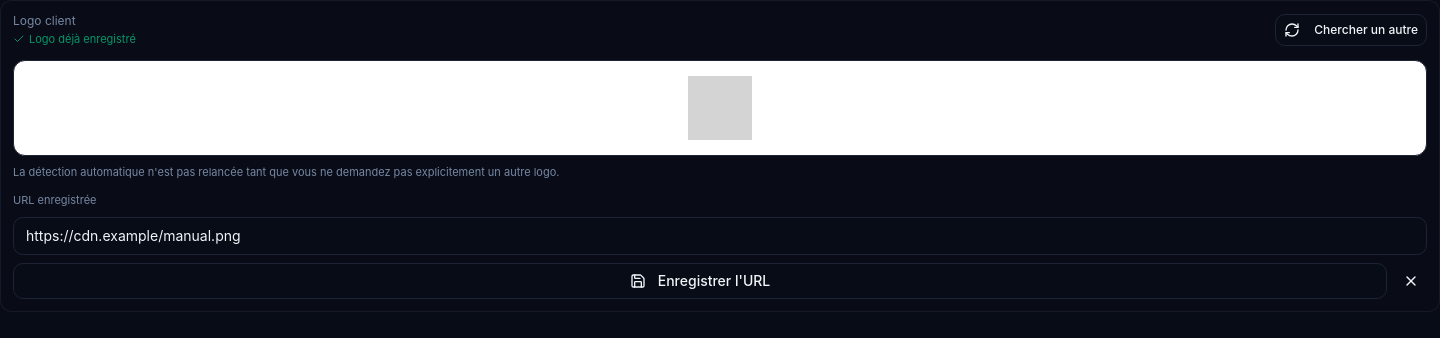
ClientLogoSidebar › shows a detected logo as a suggestion without overwriting the saved field
The image size is (1440, 338).
Expected: the text "Logo déjà enregistré" is shown, [13,31,136,48]
Click the button "Chercher un autre" at (1351, 30), box [1275,14,1427,46]
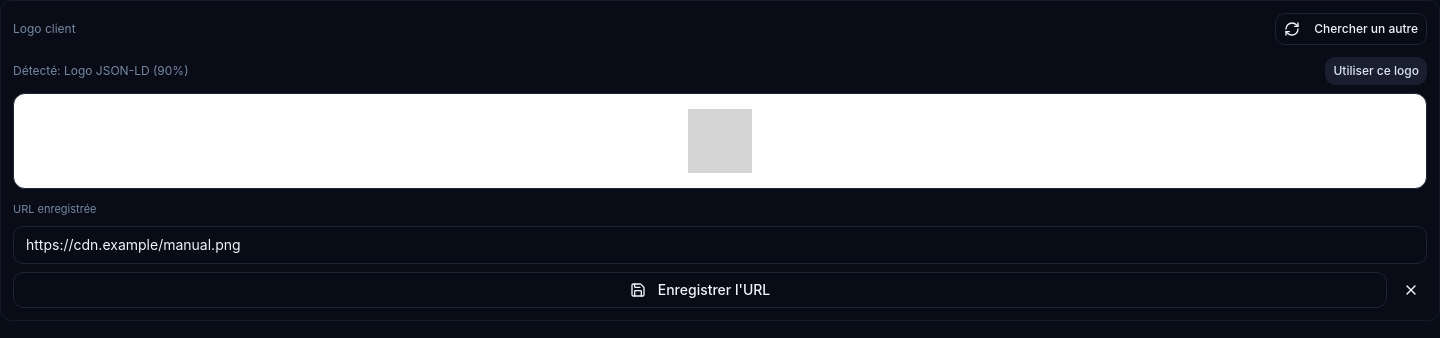
Expected: the field with placeholder "https://exemple.com/logo.png" holds "https://cdn.example/manual.png", [13,226,1427,264]
Expected: the text "Détecté: Logo JSON-LD (90%)" is shown, [13,63,188,79]
Click the button "Utiliser ce logo" at (1376, 71), box [1326,57,1427,85]
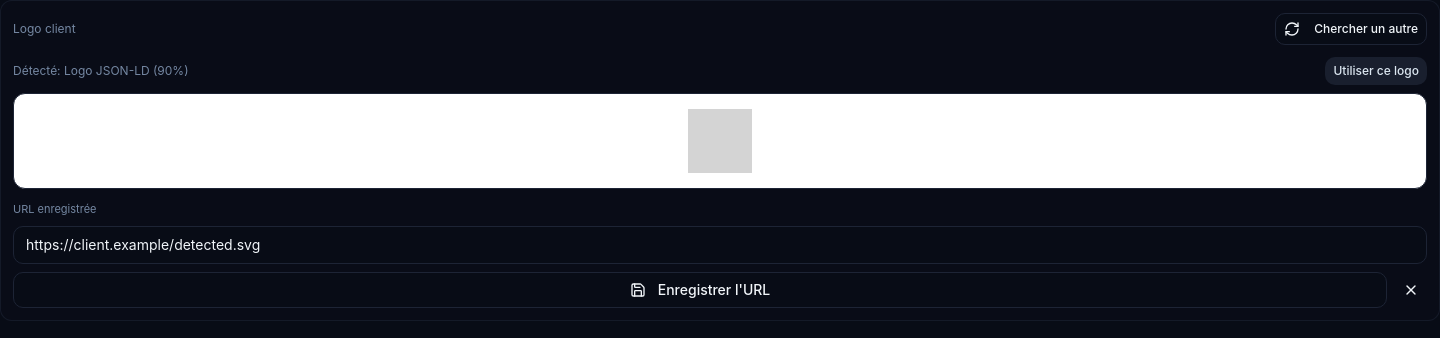
Expected: the field with placeholder "https://exemple.com/logo.png" holds "https://client.example/detected.svg", [13,226,1427,264]
